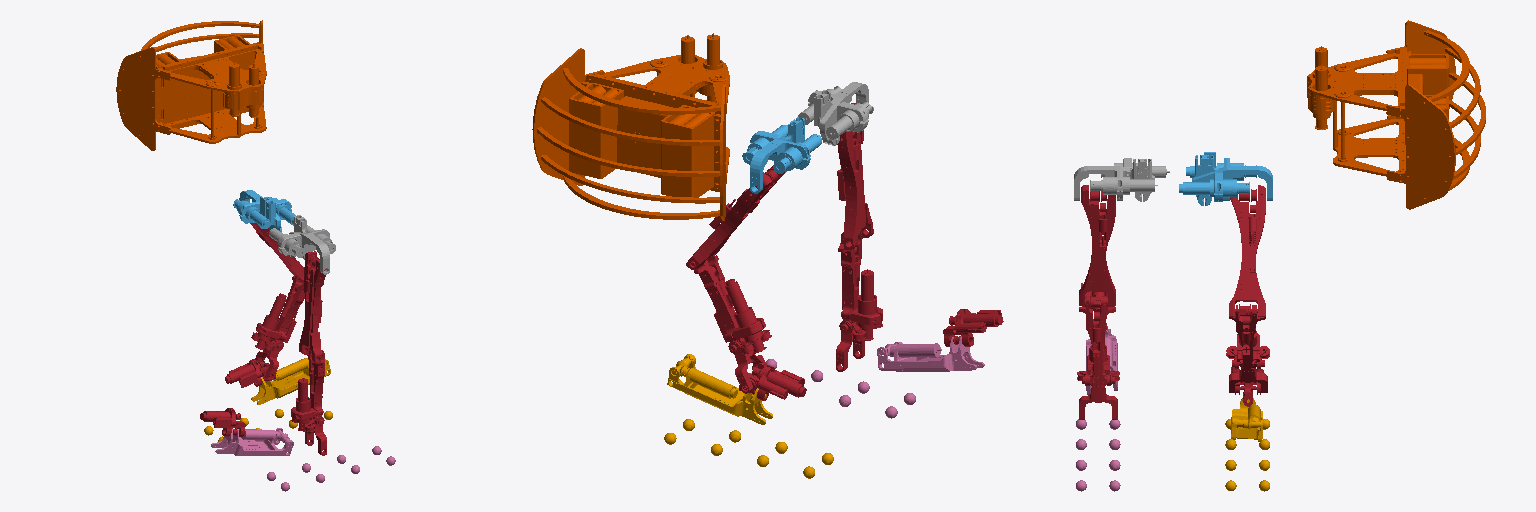
URDF robot description (caminante):
<robot name="caminante">
  
  <link name="l_foot">
    <inertial>
      <mass value="0.410" />
      <origin rpy="0 0 0" xyz="0.027 0 -0.067" />
      <inertia ixx="0.002" ixy="0" ixz="0" iyy="0.007" iyz="0" izz="0.008" />
    </inertial>
    <visual>
      <origin rpy="1.5657   -0.0000   -1.5708" xyz="0.0771   -0.0732    0.1504" />
      <geometry>
        <mesh filename="meshes/Left_Foot.obj" scale="1 1 1" />
      </geometry>
    </visual>
    <collision group="heel">
      <origin rpy="0 0 0" xyz="-0.0876 0.0300001 -0.040001" />
      <geometry>
        <sphere radius="0.0" />
      </geometry>
    </collision>
    <visual group="heel">
      <origin rpy="0 0 0" xyz="-0.0876 0.0300001 -0.040001" />
      <geometry>
        <sphere radius="0.01" />
      </geometry>
    </visual>
    <collision group="heel">
      <origin rpy="0 0 0" xyz="-0.0876 -0.0300001 -0.040001" />
      <geometry>
        <sphere radius="0.0" />
      </geometry>
    </collision>
    <visual group="heel">
      <origin rpy="0 0 0" xyz="-0.0876 -0.0300001 -0.040001" />
      <geometry>
        <sphere radius="0.01" />
      </geometry>
    </visual>
    <collision group="toe">
      <origin rpy="0 0 0" xyz="0.1728 0.0300001 -0.040001" />
      <geometry>
        <sphere radius="0.0" />
      </geometry>
    </collision>
    <visual group="toe">
      <origin rpy="0 0 0" xyz="0.1728 0.0300001 -0.040001" />
      <geometry>
        <sphere radius="0.01" />
      </geometry>
    </visual>
    <collision group="toe">
      <origin rpy="0 0 0" xyz="0.1728 -0.0300001 -0.040001" />
      <geometry>
        <sphere radius="0.0" />
      </geometry>
    </collision>
    <visual group="toe">
      <origin rpy="0 0 0" xyz="0.1728 -0.0300001 -0.040001" />
      <geometry>
        <sphere radius="0.01" />
      </geometry>
    </visual>
    <collision group="midfoot_front">
      <origin rpy="0 0 0" xyz="0.086 0.0300001 -0.040001" />
      <geometry>
        <sphere radius="0.0" />
      </geometry>
    </collision>
    <visual group="midfoot_front">
      <origin rpy="0 0 0" xyz="0.086 0.0300001 -0.040001" />
      <geometry>
        <sphere radius="0.01" />
      </geometry>
    </visual>
    <collision group="midfoot_front">
      <origin rpy="0 0 0" xyz="0.086 -0.0300001 -0.040001" />
      <geometry>
        <sphere radius="0.0" />
      </geometry>
    </collision>
    <visual group="midfoot_front">
      <origin rpy="0 0 0" xyz="0.086 -0.0300001 -0.040001" />
      <geometry>
        <sphere radius="0.01" />
      </geometry>
    </visual>
    <collision group="midfoot_rear">
      <origin rpy="0 0 0" xyz="-0.0008 0.0300001 -0.040001" />
      <geometry>
        <sphere radius="0.0" />
      </geometry>
    </collision>
    <visual group="midfoot_rear">
      <origin rpy="0 0 0" xyz="-0.0008 0.0300001 -0.040001" />
      <geometry>
        <sphere radius="0.01" />
      </geometry>
    </visual>
    <collision group="midfoot_rear">
      <origin rpy="0 0 0" xyz="-0.0008 -0.0300001 -0.040001" />
      <geometry>
        <sphere radius="0.0" />
      </geometry>
    </collision>
    <visual group="midfoot_rear">
      <origin rpy="0 0 0" xyz="-0.0008 -0.0300001 -0.040001" />
      <geometry>
        <sphere radius="0.01" />
      </geometry>
    </visual>
  </link>
 

  <link name="l_lglut">
    <inertial>
      <mass value="0.437298303222345" />
      <origin rpy="0  0  0" xyz="-0.03492  0.03099  0.00015" />
      <inertia ixx="0.000344658356090036" ixy="1.4438940947967E-05" ixz="5.03774354824921E-05" iyy="0.000819710121372963" iyz="1.99893504999227E-05" izz="0.00066955963284712" />
    </inertial>
    <visual>
      <origin rpy="0  0  0" xyz="-0.00384 -0.3021  -0.06945" />
      <geometry>
        <mesh filename="meshes/Left_Hip.obj" scale="1 1 1" />
      </geometry>
    </visual>
  </link>
  <link name="l_lleg">
    <inertial>
      <mass value="0.512558545145301" />
      <origin rpy="0  0  0" xyz="0      -0.11018  0.00843" />
      <inertia ixx="0.00213377963819277" ixy="3.74835359824284E-05" ixz="4.14809936352257E-06" iyy="0.000231679313040171" iyz="0.000107877166470471" izz="0.0021213704718963" />
    </inertial>
    <visual>
      <origin rpy="0  0  0" xyz="0.07301 -0.09254 -0.0714" />
      <geometry>
        <mesh filename="meshes/Bottom_Left_Leg.obj" scale="1 1 1" />
      </geometry>
      <material name="red">
        <color rgba="0.675 0.169 0.216 1.0" />
      </material>
    </visual>
  </link>

  <link name="l_talus">
    <inertial>
      <mass value="0.117206413777382" />
      <origin rpy="0  0  0" xyz="0       0.00525  0.02552" />
      <inertia ixx="0.000111896827570048" ixy="5.94543100842475E-07" ixz="2.57140126177776E-06" iyy="0.000105965848764851" iyz="2.65868228080628E-05" izz="4.20803404080659E-05" />
    </inertial>
    <visual>
      <origin rpy="0  0  0" xyz="0.07317  0.12875 -0.07027" />
      <geometry>
        <mesh filename="meshes/Left_Ankle.obj" scale="1 1 1" />
      </geometry>
      <material name="red">
        <color rgba="0.675 0.169 0.216 1.0" />
      </material>
    </visual>
  </link>


  <link name="l_uleg">
    <inertial>
      <mass value="0.498661421818378" />
      <origin rpy="0  0  0" xyz="0      -0.09292 -0.00071" />
      <inertia ixx="0.00222023286489819" ixy="2.76170328092637E-05" ixz="4.42071982951624E-07" iyy="0.000133616406118555" iyz="1.5209311638611E-05" izz="0.00230781854965746" />
    </inertial>
    <visual>
      <origin rpy="0  0  0" xyz="0.07675 -0.30208 -0.07247" />
      <geometry>
        <mesh filename="meshes/Top_Left_Leg.obj" scale="1 1 1" />
      </geometry>
      <material name="red">
        <color rgba="0.675 0.169 0.216 1.0" />
      </material>
    </visual>
    
    
    
  </link>

  <link name="pelvis">
    <inertial>
      <mass value="6.4909068" />
      <origin rpy="1.56567  0      -1.57079" xyz="0 0 0" />
      <inertia ixx="0.0271179077728007" ixy="1.18852566353138E-05" ixz="2.95478792996208E-05" iyy="0.0323353494450389" iyz="0.00289482168449842" izz="0.0422145237899791" />
    </inertial>
    <visual>
      <geometry>
        
        <origin rpy="1.56567  0      -1.57079" xyz="0.0786    0.05923   -0.41164" />
        <mesh filename="meshes/Body.obj" scale="1 1 1" />
      </geometry>
    </visual>
  </link>
 
  <link name="r_foot">
    <inertial>
      <mass value="0.41" />
      <origin rpy="0 0 0" xyz="0.027 0 -0.067" />
      <inertia ixx="0.002" ixy="0" ixz="0" iyy="0.007" iyz="0" izz="0.008" />
    </inertial>
    <visual>
      <origin rpy="1.5657   -0.0000   -1.5708" xyz="0.0771    0.1935    0.1504" />
      <geometry>
        <mesh filename="meshes/Right_Foot.obj" scale="1 1 1" />
      </geometry>
    </visual>
    <collision group="heel">
      <origin rpy="0 0 0" xyz="-0.0876 0.0300001 -0.040001" />
      <geometry>
        <sphere radius="0.0" />
      </geometry>
    </collision>
    <visual group="heel">
      <origin rpy="0 0 0" xyz="-0.0876 0.0300001 -0.040001" />
      <geometry>
        <sphere radius="0.01" />
      </geometry>
    </visual>
    <collision group="heel">
      <origin rpy="0 0 0" xyz="-0.0876 -0.0300001 -0.040001" />
      <geometry>
        <sphere radius="0.0" />
      </geometry>
    </collision>
    <visual group="heel">
      <origin rpy="0 0 0" xyz="-0.0876 -0.0300001 -0.040001" />
      <geometry>
        <sphere radius="0.01" />
      </geometry>
    </visual>
    <collision group="toe">
      <origin rpy="0 0 0" xyz="0.1728 0.0300001 -0.040001" />
      <geometry>
        <sphere radius="0.0" />
      </geometry>
    </collision>
    <visual group="toe">
      <origin rpy="0 0 0" xyz="0.1728 0.0300001 -0.040001" />
      <geometry>
        <sphere radius="0.01" />
      </geometry>
    </visual>
    <collision group="toe">
      <origin rpy="0 0 0" xyz="0.1728 -0.0300001 -0.040001" />
      <geometry>
        <sphere radius="0.0" />
      </geometry>
    </collision>
    <visual group="toe">
      <origin rpy="0 0 0" xyz="0.1728 -0.0300001 -0.040001" />
      <geometry>
        <sphere radius="0.01" />
      </geometry>
    </visual>
    <collision group="midfoot_front">
      <origin rpy="0 0 0" xyz="0.086 0.0300001 -0.040001" />
      <geometry>
        <sphere radius="0.0" />
      </geometry>
    </collision>
    <visual group="midfoot_front">
      <origin rpy="0 0 0" xyz="0.086 0.0300001 -0.040001" />
      <geometry>
        <sphere radius="0.01" />
      </geometry>
    </visual>
    <collision group="midfoot_front">
      <origin rpy="0 0 0" xyz="0.086 -0.0300001 -0.040001" />
      <geometry>
        <sphere radius="0.0" />
      </geometry>
    </collision>
    <visual group="midfoot_front">
      <origin rpy="0 0 0" xyz="0.086 -0.0300001 -0.040001" />
      <geometry>
        <sphere radius="0.01" />
      </geometry>
    </visual>
    <collision group="midfoot_rear">
      <origin rpy="0 0 0" xyz="-0.0008 0.0300001 -0.040001" />
      <geometry>
        <sphere radius="0.0" />
      </geometry>
    </collision>
    <visual group="midfoot_rear">
      <origin rpy="0 0 0" xyz="-0.0008 0.0300001 -0.040001" />
      <geometry>
        <sphere radius="0.01" />
      </geometry>
    </visual>
    <collision group="midfoot_rear">
      <origin rpy="0 0 0" xyz="-0.0008 -0.0300001 -0.040001" />
      <geometry>
        <sphere radius="0.0" />
      </geometry>
    </collision>
    <visual group="midfoot_rear">
      <origin rpy="0 0 0" xyz="-0.0008 -0.0300001 -0.040001" />
      <geometry>
        <sphere radius="0.01" />
      </geometry>
    </visual>
  </link>


  
  <link name="r_lglut">
    <inertial>
      <mass value="0.429542604129865" />
      <origin rpy="0  0  0" xyz="0.03461  0.03088  0.00015" />
      <inertia ixx="0.000335620222780637" ixy="1.71766252899159E-05" ixz="6.82036560203188E-05" iyy="0.000796625170345829" iyz="1.87749814800264E-05" izz="0.000651844767117383" />
    </inertial>
    <visual>
      <origin rpy="0  0  0" xyz="-0.11497 -0.30207 -0.0756" />
      <geometry>
        <mesh filename="meshes/Right_Hip.obj" scale="1 1 1" />
      </geometry>
    </visual>
  </link>
  <link name="r_lleg">
    <inertial>
      <mass value="0.496399914621672" />
      <origin rpy="0  0  0" xyz="0      -0.11414  0.00893" />
      <inertia ixx="0.00193251368574828" ixy="2.87905126861506E-05" ixz="3.64310219704147E-06" iyy="0.000228879661927419" iyz="9.27392912409724E-05" izz="0.00191229395918849" />
    </inertial>
    <visual>
      <origin rpy="0  0  0" xyz="-0.1935  -0.09254 -0.0714" />
      <geometry>
        <mesh filename="meshes/Bottom_Right_Leg.obj" scale="1 1 1" />
      </geometry>
      <material name="red">
        <color rgba="0.675 0.169 0.216 1.0" />
      </material>
    </visual>
  </link>

  <link name="r_talus">
    <inertial>
      <mass value="0.113529232705104" />
      <origin rpy="0  0  0" xyz="0       0.00601  0.02692" />
      <inertia ixx="0.000102683690789615" ixy="5.24094963661094E-07" ixz="2.43532379680455E-06" iyy="9.8810717962194E-05" iyz="2.27559446851328E-05" izz="3.98903277983113E-05" />
    </inertial>
    <visual>
      <origin rpy="0  0  0" xyz="-0.19355  0.12875 -0.07027" />
      <geometry>
        <mesh filename="meshes/Right_Ankle.obj" scale="1 1 1" />
      </geometry>
      <material name="red">
        <color rgba="0.675 0.169 0.216 1.0" />
      </material>
    </visual>
  </link>



  <link name="r_uleg">
    <inertial>
      <mass value="0.473894617598188" />
      <origin rpy="0  0  0" xyz="0      -0.09427 -0.00073" />
      <inertia ixx="0.00219613513040201" ixy="2.41554166439975E-05" ixz="4.92477643768768E-07" iyy="0.000130736562803138" iyz="1.49414818095768E-05" izz="0.00228460638702232" />
    </inertial>
    <visual>
      <origin rpy="0  0  0" xyz="-0.19021 -0.30208 -0.07247" />
      <geometry>
        <mesh filename="meshes/Top_Right_Leg.obj" scale="1 1 1" />
      </geometry>
      <material name="red">
        <color rgba="0.675 0.169 0.216 1.0" />
      </material>
    </visual>
    
    
    
 </link> 







  <joint name="l_leg_akx" type="revolute">
    <origin rpy="-0.0012    1.5657    1.5696" xyz="0   -0.0220    0.0060" />
    <axis xyz="1 0 0" />
    <parent link="l_talus" />
    <child link="l_foot" />
    <dynamics damping="0.1" friction="0" />
    <limit effort="4.4928" lower="-0.8" upper="0.8" velocity="12" />
    <safety_controller k_position="100" k_velocity="100" soft_lower_limit="-10.8" soft_upper_limit="10.8" />
  </joint>
  <joint name="l_leg_aky" type="revolute">
    <origin rpy="0  0  0" xyz="-1.50000000e-04  -2.21290000e-01  -1.13000000e-03" />
    <axis xyz="-1  0  0" />
    <parent link="l_lleg" />
    <child link="l_talus" />
    <dynamics damping="0.1" friction="0" />
    <limit effort="67.932" lower="-1" upper="0.7" velocity="12" />
    <safety_controller k_position="100" k_velocity="100" soft_lower_limit="-11" soft_upper_limit="10.7" />
  </joint>
  <joint name="l_leg_hpx" type="revolute">
    
    <origin rpy="1.56567  0      -1.57079" xyz="0.0107    0.05539   -0.10919" />
    
    <axis xyz="0      -0.00511  0.99998" />  
    <parent link="pelvis" />
    <child link="l_lglut" />
    <dynamics damping="0.1" friction="0" />
    <limit effort="67.932" lower="-0.523599" upper="0.523599" velocity="12" />
    <safety_controller k_position="100" k_velocity="100" soft_lower_limit="-10.5236" soft_upper_limit="10.5236" />
  </joint>
  <joint name="l_leg_hpy" type="revolute">
    
    <origin rpy="0  0  0" xyz="-8.05900000e-02  -1.00000000e-05   3.02000000e-03" />
    <axis xyz="-1  0  0" />
    <parent link="l_lglut" />
    <child link="l_uleg" />
    <dynamics damping="0.1" friction="0" />
    <limit effort="67.932" lower="-1.61234" upper="0.65764" velocity="12" />
    <safety_controller k_position="100" k_velocity="100" soft_lower_limit="-11.6123" soft_upper_limit="10.6576" />
  </joint>

  <joint name="l_leg_kny" type="revolute">
    <origin rpy="0  0  0" xyz="0.00373 -0.20954 -0.00107" />
    <axis xyz="-1  0  0" />
    <parent link="l_uleg" />
    <child link="l_lleg" />
    <dynamics damping="0.1" friction="0" />
    <limit effort="67.932" lower="0" upper="1.57" velocity="12" />
    <safety_controller k_position="100" k_velocity="100" soft_lower_limit="-10" soft_upper_limit="12.3564" />
  </joint>



  <joint name="r_leg_akx" type="revolute">
    <origin rpy="-0.0012    1.5657    1.5696" xyz="0   -0.0220    0.0060" />
    <axis xyz="1 0 0" />
    <parent link="r_talus" />
    <child link="r_foot" />
    <dynamics damping="0.1" friction="0" />
    <limit effort="4.4928" lower="-0.8" upper="0.8" velocity="12" />
    <safety_controller k_position="100" k_velocity="100" soft_lower_limit="-10.8" soft_upper_limit="10.8" />
  </joint>
  <joint name="r_leg_aky" type="revolute">
    <origin rpy="0  0  0" xyz="4.00000000e-05  -2.21290000e-01  -1.13000000e-03" />
    <axis xyz="-1  0  0" />
    <parent link="r_lleg" />
    <child link="r_talus" />
    <dynamics damping="0.1" friction="0" />
    <limit effort="67.932" lower="-1" upper="0.7" velocity="12" />
    <safety_controller k_position="100" k_velocity="100" soft_lower_limit="-11" soft_upper_limit="10.7" />
  </joint>
  <joint name="r_leg_hpx" type="revolute">
    <origin rpy="1.56567  0      -1.57079" xyz="0.00455  -0.05573  -0.10919" />
    <axis xyz="0       0.00511 -0.99998" />
    <parent link="pelvis" />
    <child link="r_lglut" />
    <dynamics damping="0.1" friction="0" />
    <limit effort="67.932" lower="-0.523599" upper="0.523599" velocity="12" />
    <safety_controller k_position="100" k_velocity="100" soft_lower_limit="-10.5236" soft_upper_limit="10.5236" />
  </joint>
  <joint name="r_leg_hpy" type="revolute">
    <origin rpy="0  0  0" xyz="7.52400000e-02   1.00000000e-05  -3.13000000e-03" />
    <axis xyz="-1  0  0" />
    <parent link="r_lglut" />
    <child link="r_uleg" />
    <dynamics damping="0.1" friction="0" />
    <limit effort="67.932" lower="-1.61234" upper="0.65764" velocity="12" />
    <safety_controller k_position="100" k_velocity="100" soft_lower_limit="-11.6123" soft_upper_limit="10.6576" />
  </joint>

  <joint name="r_leg_kny" type="revolute">
    <origin rpy="0  0  0" xyz="0.00328 -0.20954 -0.00107" />
    <axis xyz="-1  0  0" />
    <parent link="r_uleg" />
    <child link="r_lleg" />
    <dynamics damping="0.1" friction="0" />
    <limit effort="67.932" lower="0" upper="1.57" velocity="12" />
    <safety_controller k_position="100" k_velocity="100" soft_lower_limit="-10" soft_upper_limit="12.3564" />
  </joint>
 
  <frame link="l_foot" name="l_foot_sole" rpy="0 0 0" xyz="0.0426  0.0017 -0.040001" />
  <frame link="r_foot" name="r_foot_sole" rpy="0 0 0" xyz="0.0426 -0.0017 -0.040001" />
  <frame link="l_foot" name="l_foot_toe" rpy="0 0 0" xyz="0.1728 0.0017 -0.040001" />
  <frame link="r_foot" name="r_foot_toe" rpy="0 0 0" xyz="0.1728 -0.0017 -0.040001" />



 
  



  <transmission name="l_leg_kny_trans" type="pr2_mechanism_model/SimpleTransmission">
    <actuator name="l_leg_kny_motor" />
    <joint name="l_leg_kny" />
    <mechanicalReduction>1</mechanicalReduction>
  </transmission>
  <transmission name="l_leg_akx_trans" type="pr2_mechanism_model/SimpleTransmission">
    <actuator name="l_leg_akx_motor" />
    <joint name="l_leg_akx" />
    <mechanicalReduction>1</mechanicalReduction>
  </transmission>
  <transmission name="l_leg_hpy_trans" type="pr2_mechanism_model/SimpleTransmission">
    <actuator name="l_leg_hpy_motor" />
    <joint name="l_leg_hpy" />
    <mechanicalReduction>1</mechanicalReduction>
  </transmission>
  <transmission name="l_leg_hpx_trans" type="pr2_mechanism_model/SimpleTransmission">
    <actuator name="l_leg_hpx_motor" />
    <joint name="l_leg_hpx" />
    <mechanicalReduction>1</mechanicalReduction>
  </transmission>
  <transmission name="l_leg_aky_trans" type="pr2_mechanism_model/SimpleTransmission">
    <actuator name="l_leg_aky_motor" />
    <joint name="l_leg_aky" />
    <mechanicalReduction>1</mechanicalReduction>
  </transmission>



  <transmission name="r_leg_kny_trans" type="pr2_mechanism_model/SimpleTransmission">
    <actuator name="r_leg_kny_motor" />
    <joint name="r_leg_kny" />
    <mechanicalReduction>1</mechanicalReduction>
  </transmission>
  <transmission name="r_leg_akx_trans" type="pr2_mechanism_model/SimpleTransmission">
    <actuator name="r_leg_akx_motor" />
    <joint name="r_leg_akx" />
    <mechanicalReduction>1</mechanicalReduction>
  </transmission>
  <transmission name="r_leg_hpy_trans" type="pr2_mechanism_model/SimpleTransmission">
    <actuator name="r_leg_hpy_motor" />
    <joint name="r_leg_hpy" />
    <mechanicalReduction>1</mechanicalReduction>
  </transmission>
  <transmission name="r_leg_hpx_trans" type="pr2_mechanism_model/SimpleTransmission">
    <actuator name="r_leg_hpx_motor" />
    <joint name="r_leg_hpx" />
    <mechanicalReduction>1</mechanicalReduction>
  </transmission>
  <transmission name="r_leg_aky_trans" type="pr2_mechanism_model/SimpleTransmission">
    <actuator name="r_leg_aky_motor" />
    <joint name="r_leg_aky" />
    <mechanicalReduction>1</mechanicalReduction>
  </transmission>



</robot>

--- Render facts (derived) ---
Views: 3 orthographic renders of the robot side by side, from view 1: azimuth 30°, elevation 25°; view 2: azimuth 150°, elevation 25°; view 3: azimuth 270°, elevation 25°.
Robot: caminante — 11 links, 10 joints (10 revolute); root link pelvis; default pose: all joints at 0.
Links seen in each view (by area): view 1: pelvis, l_lleg, r_foot, r_lleg, r_uleg, r_lglut, l_foot, l_lglut, r_talus, l_talus, l_uleg; view 2: pelvis, l_lleg, l_foot, r_lleg, r_foot, l_lglut, r_lglut, r_uleg, l_uleg, r_talus, l_talus; view 3: pelvis, l_lglut, r_lleg, l_uleg, r_uleg, r_lglut, l_lleg, l_foot, r_foot.
Boxes of the visible links, x1,y1,x2,y2 form: pelvis: [116, 20, 266, 150]; l_lleg: [251, 276, 304, 380]; r_foot: [211, 428, 395, 491]; r_lleg: [291, 347, 326, 455]; r_uleg: [299, 251, 325, 363]; r_lglut: [269, 215, 335, 274]; l_foot: [204, 358, 332, 441]; l_lglut: [233, 190, 295, 231]; r_talus: [200, 408, 245, 436]; l_talus: [225, 359, 275, 387]; l_uleg: [250, 223, 303, 281]; pelvis: [532, 33, 729, 220]; l_lleg: [691, 254, 771, 393]; l_foot: [664, 354, 833, 478]; r_lleg: [836, 229, 882, 371]; r_foot: [750, 336, 984, 418]; l_lglut: [742, 117, 821, 193]; r_lglut: [798, 82, 873, 145]; r_uleg: [837, 103, 873, 249]; l_uleg: [686, 163, 785, 269]; r_talus: [943, 309, 1003, 346]; l_talus: [739, 365, 806, 400]; pelvis: [1307, 20, 1485, 209]; l_lglut: [1179, 152, 1272, 205]; r_lleg: [1077, 296, 1119, 419]; l_uleg: [1229, 185, 1265, 316]; r_uleg: [1079, 185, 1115, 306]; r_lglut: [1074, 158, 1169, 201]; l_lleg: [1226, 304, 1269, 394]; l_foot: [1225, 398, 1269, 491]; r_foot: [1076, 326, 1120, 491].
Bounding box of the posed robot: 0.5131 × 0.7353 × 0.8086 m (x, y, z).
11 mesh visuals loaded from 11 distinct referenced files (11 OBJ).